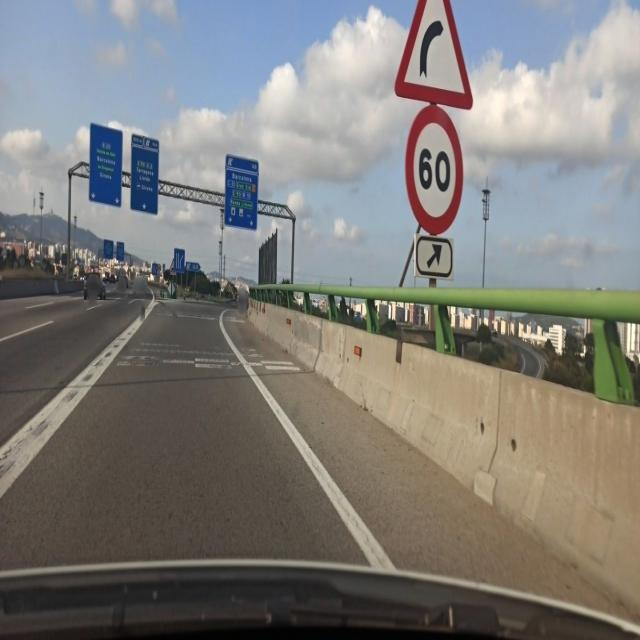car: (83, 273, 106, 300)
